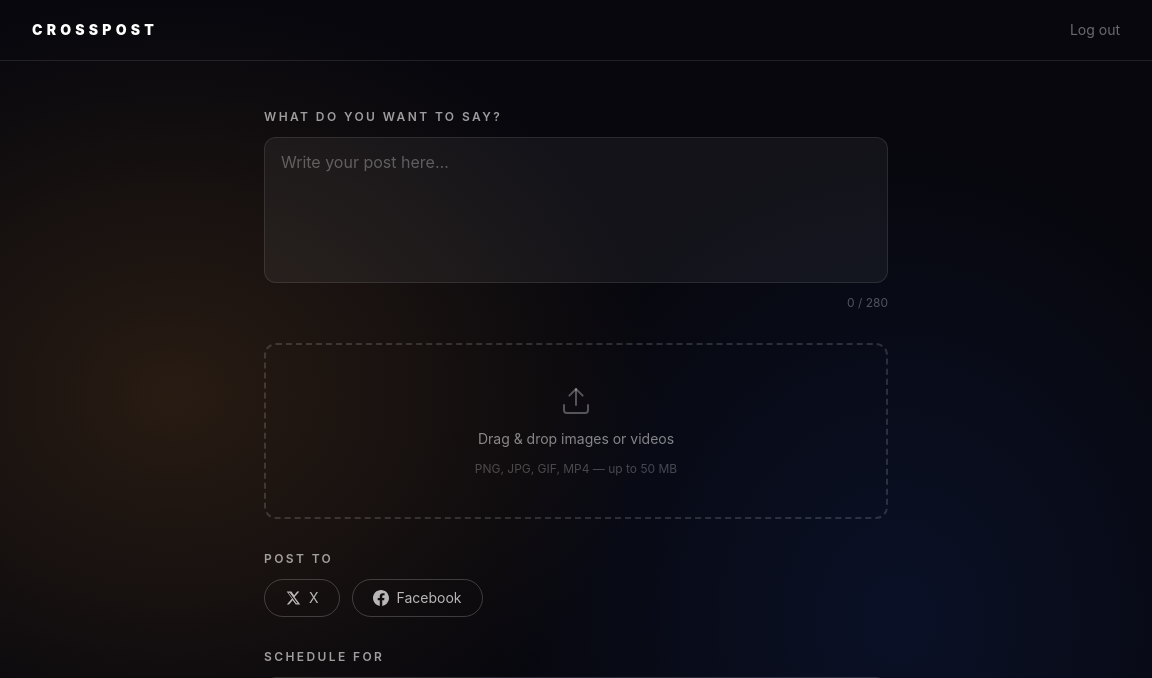
DashboardPage › shows error message when createPost fails
The image size is (1152, 678).
Type "Some content" into the text box with placeholder "Write your post here…" at coordinates (576, 210), box [264, 137, 888, 283]
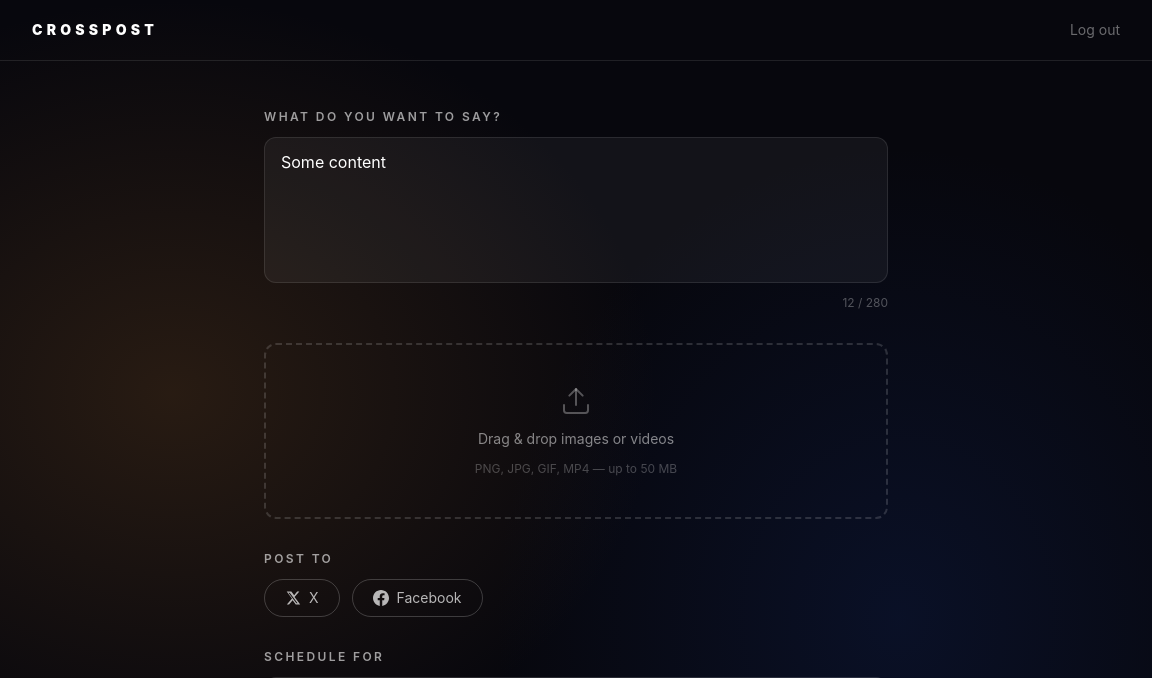
Click the button "X" at coordinates (302, 598), box [264, 579, 340, 617]
(page scrolled)
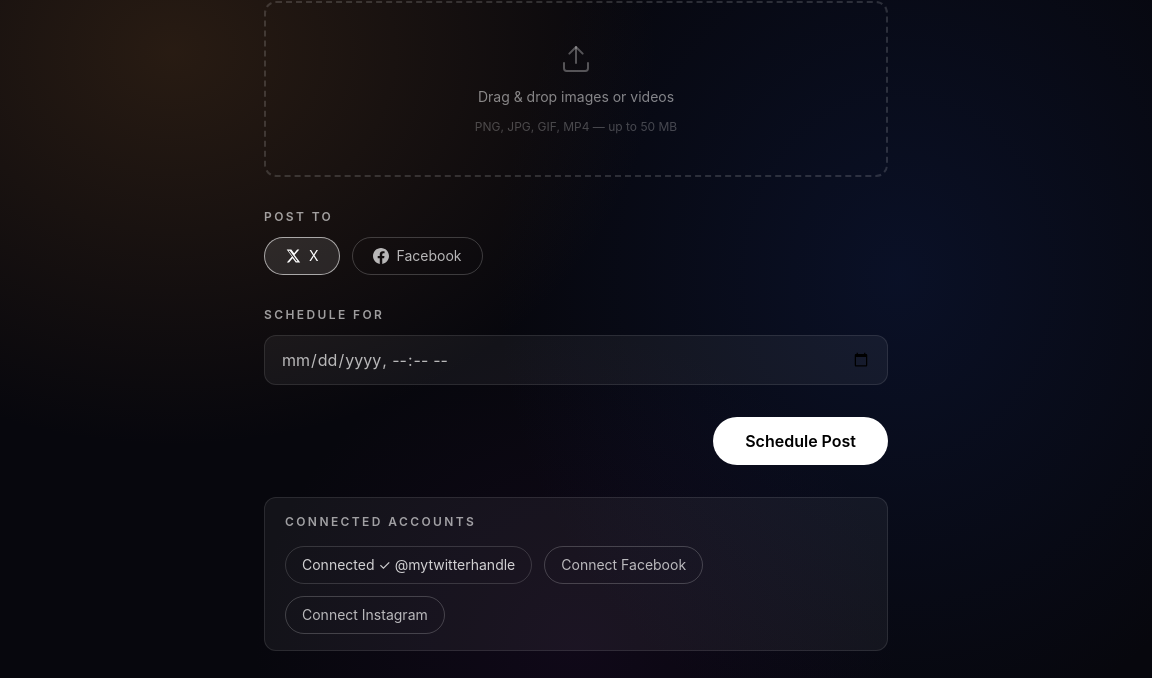
Type "2030-01-15T14:30" into the field at coordinates (576, 360), box [264, 335, 888, 385]
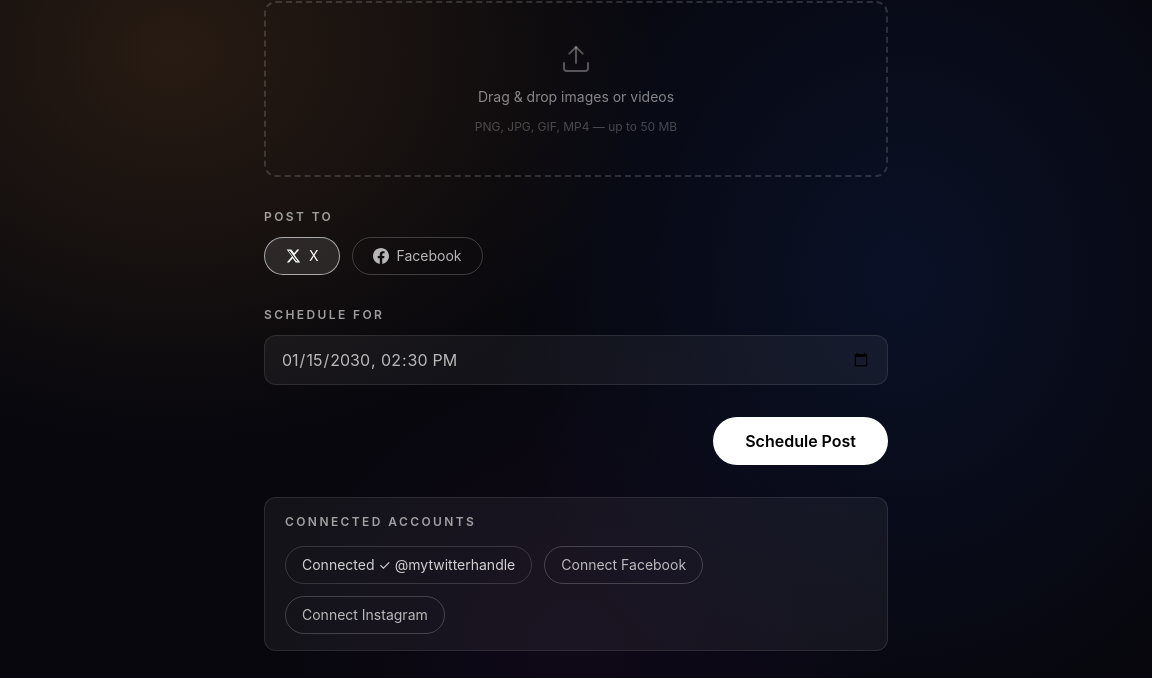
Click the button "Schedule Post" at coordinates (801, 441), box [713, 417, 888, 465]
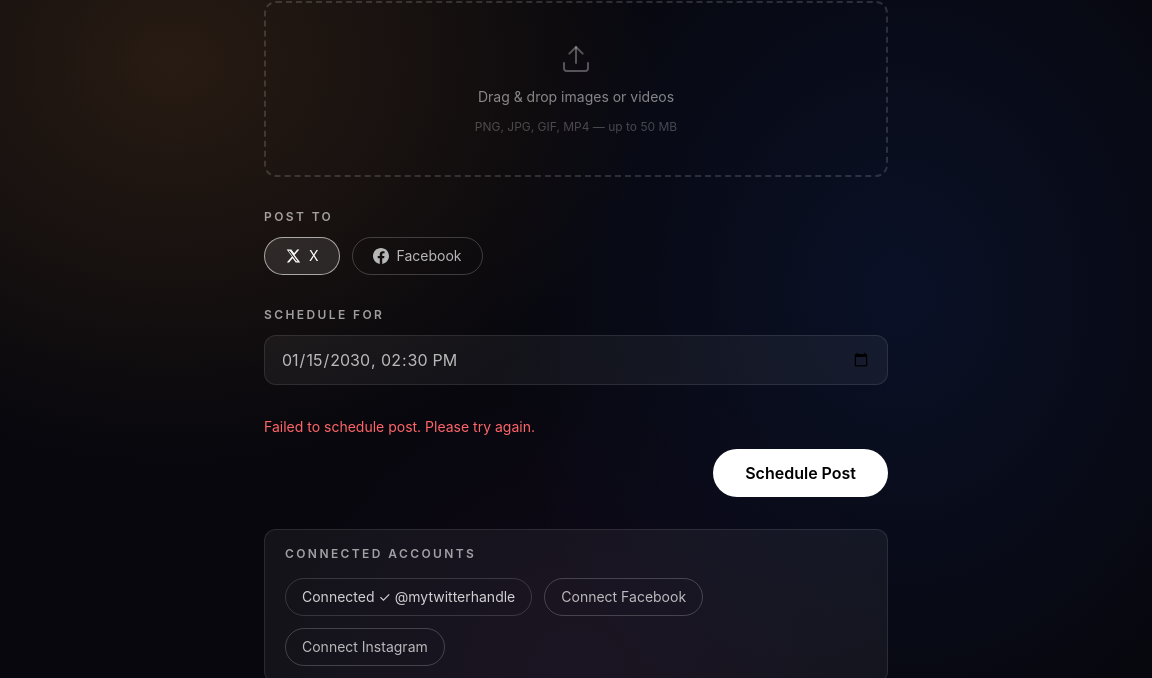
Expected: the text "Failed to schedule post. Please try again." is shown, [264, 418, 535, 435]
